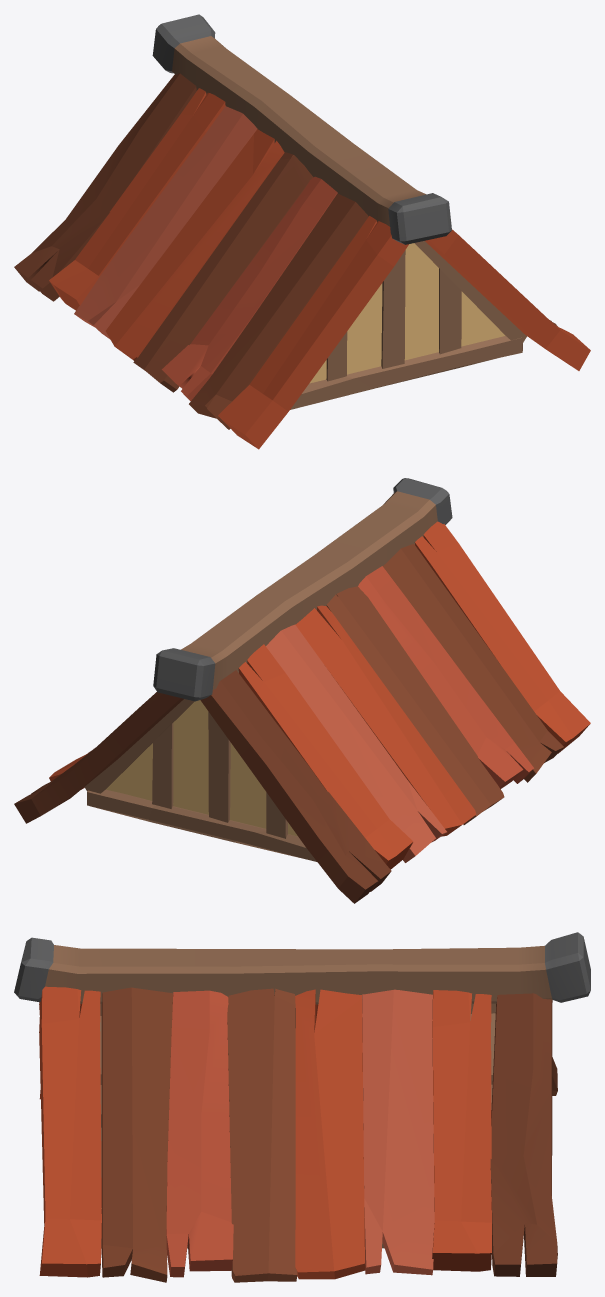
File: House_Roof_I.fbx
The picture shows the model from 3 angles, top to bottom: view 1: azimuth 30°, elevation 25°; view 2: azimuth 150°, elevation 25°; view 3: azimuth 270°, elevation 25°; orthographic projection. The views are drawn at different scales.
Visible parts, largest first — view 1: House_Roof_I; view 2: House_Roof_I; view 3: House_Roof_I.
Part boxes in pixels (box(x1,y1,x2,y2)): House_Roof_I: box(14, 14, 590, 449); House_Roof_I: box(14, 478, 590, 903); House_Roof_I: box(14, 932, 590, 1282).
Bounding box in the file's own units: 489 × 297 × 616.
